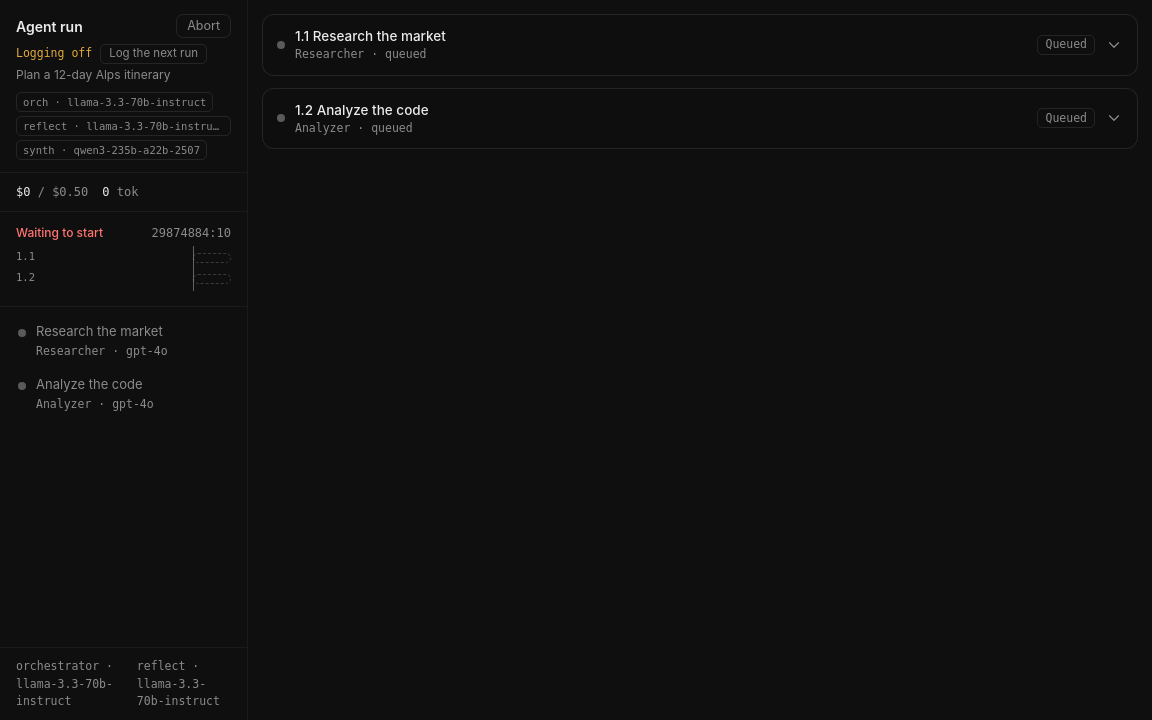
Test: Logging off in the dock header › a live run started with logging off says so, and the button turns logging on for the next run
expect the element with test id "logging-off" shows "Logging off": met, box [16,46,92,60]
What coordinates should you click on to do the following:
click the button "Log the next run"
I would click on:
 (154, 54)
Its box is [100,44,207,64].
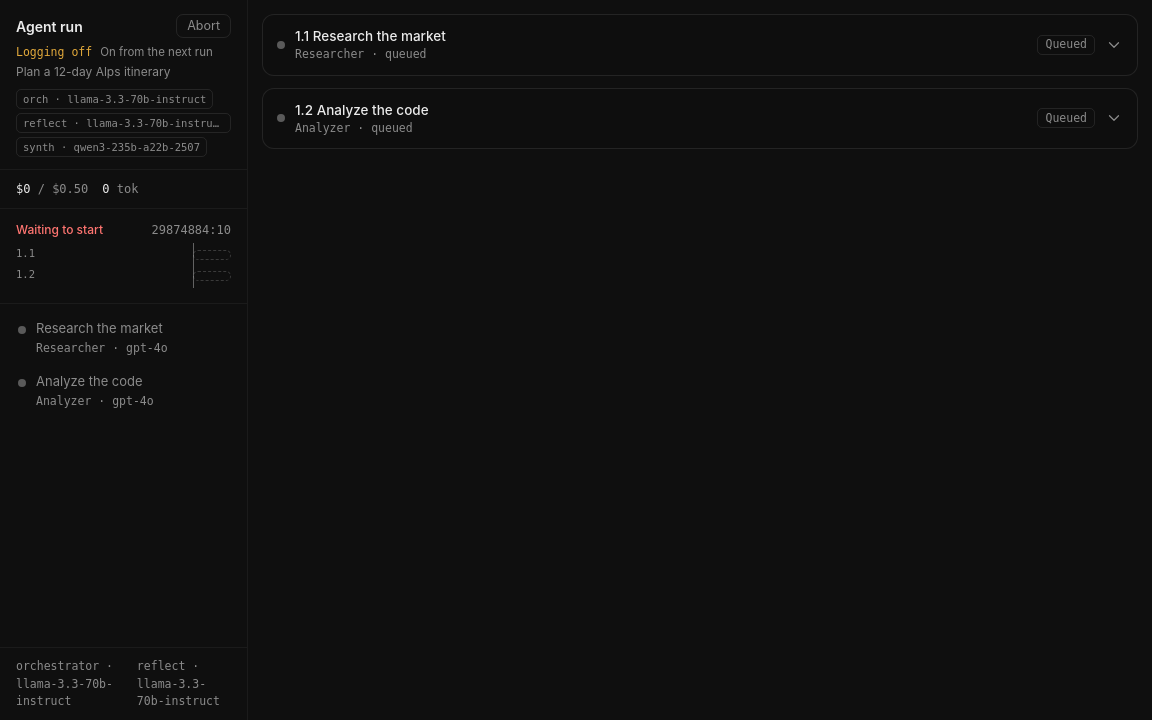
expect the text "On from the next run" is shown: met, box [100,44,213,61]
